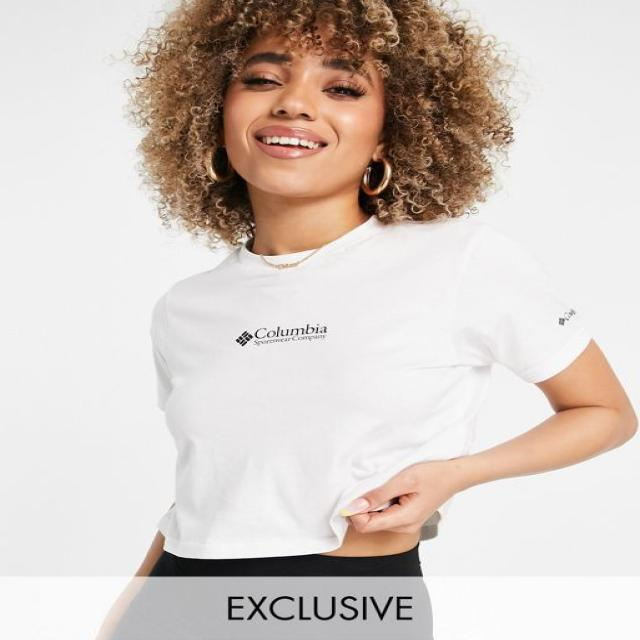tshirt: (145, 213, 590, 559)
